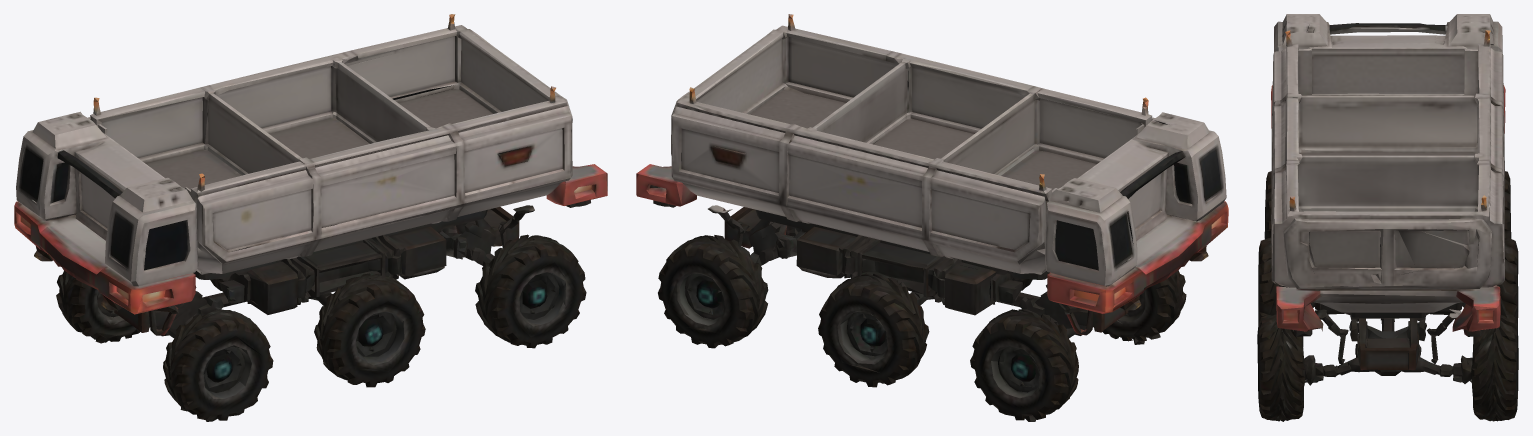
Rendered from cargo_rover.glb.
The picture shows the model from 3 angles, left to right: view 1: azimuth 30°, elevation 25°; view 2: azimuth 150°, elevation 25°; view 3: azimuth 270°, elevation 25°; orthographic projection. The views are drawn at different scales.
Parts seen in each view (by area): view 1: LOW; view 2: LOW; view 3: LOW.
Part boxes in pixels (x1,y1,x2,y2): LOW: [14, 14, 607, 421]; LOW: [636, 14, 1228, 421]; LOW: [1257, 14, 1518, 421].
Size of the model in its own units: 1.2 by 0.5745 by 0.5793.
Materials: 1 (1 with a texture image).
